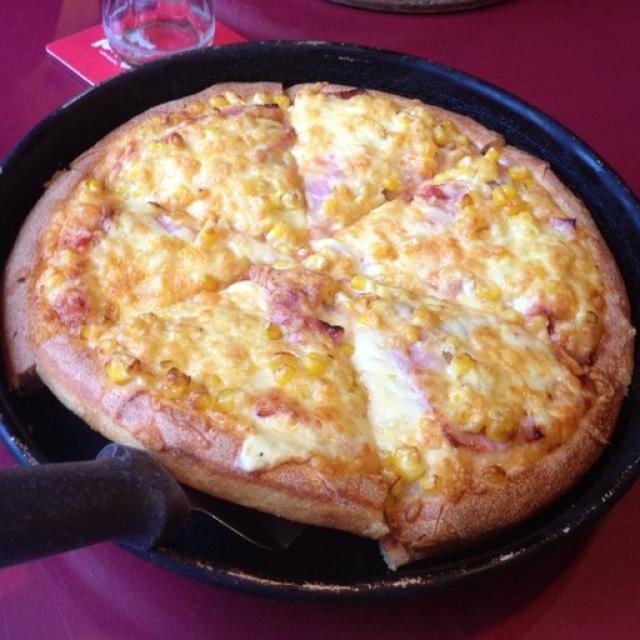Ham: (406, 347, 494, 447), (248, 266, 336, 338), (62, 213, 112, 252), (182, 101, 248, 124), (253, 397, 297, 423), (405, 180, 468, 198), (57, 286, 81, 333), (306, 180, 335, 214), (520, 304, 552, 328), (428, 274, 458, 294), (160, 213, 181, 239), (554, 214, 576, 235)
Pizza: (5, 82, 634, 570)
